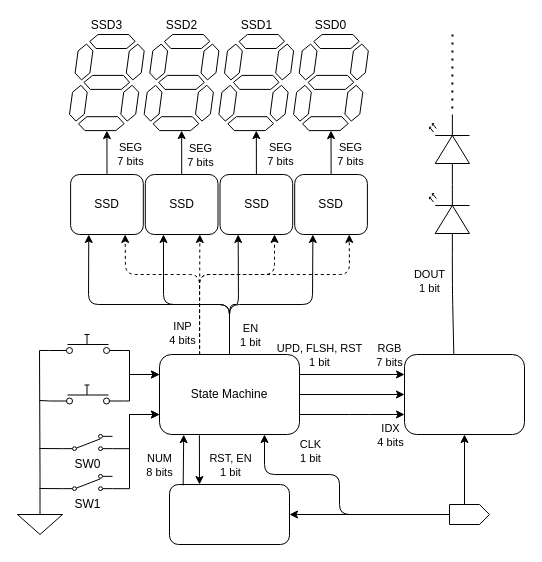
This 542x562 diagram has some shape labels left out. Each missing label, with the box of its shape:
CLK: (448, 504, 490, 524)
KEY0: (48, 334, 124, 354)
KEY3: (48, 384, 124, 404)
Pseudo-RNG LFSR: (168, 484, 290, 544)
WS2812: (404, 354, 524, 434)
